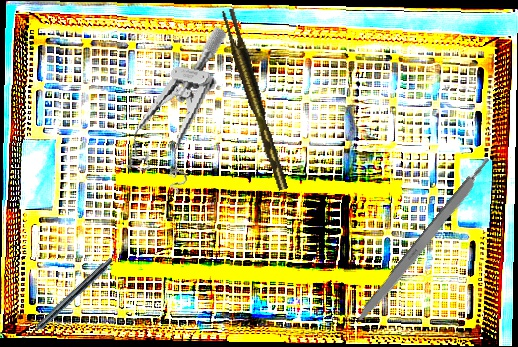Handpiece: (20, 254, 115, 345)
Scalpel Handle: (352, 155, 496, 329)
Speculum: (122, 15, 228, 198)
Tissue Forceps: (220, 6, 289, 194)
